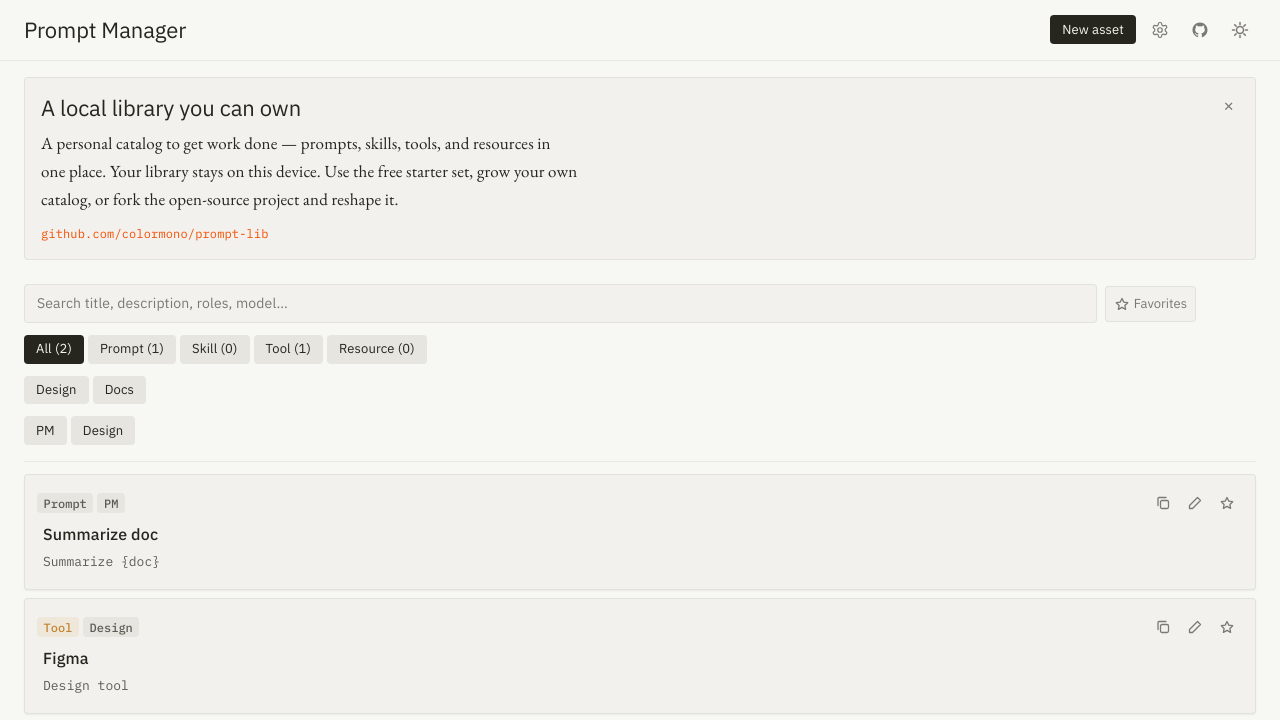
it: App › shows a clear-filters empty state when no assets match
This screenshot has width=1280, height=720.
Type "nonexistent" into the search field labelled "Search".
click(560, 304); type("nonexistent")  # box top-left (24, 284), bottom-right (1097, 323)
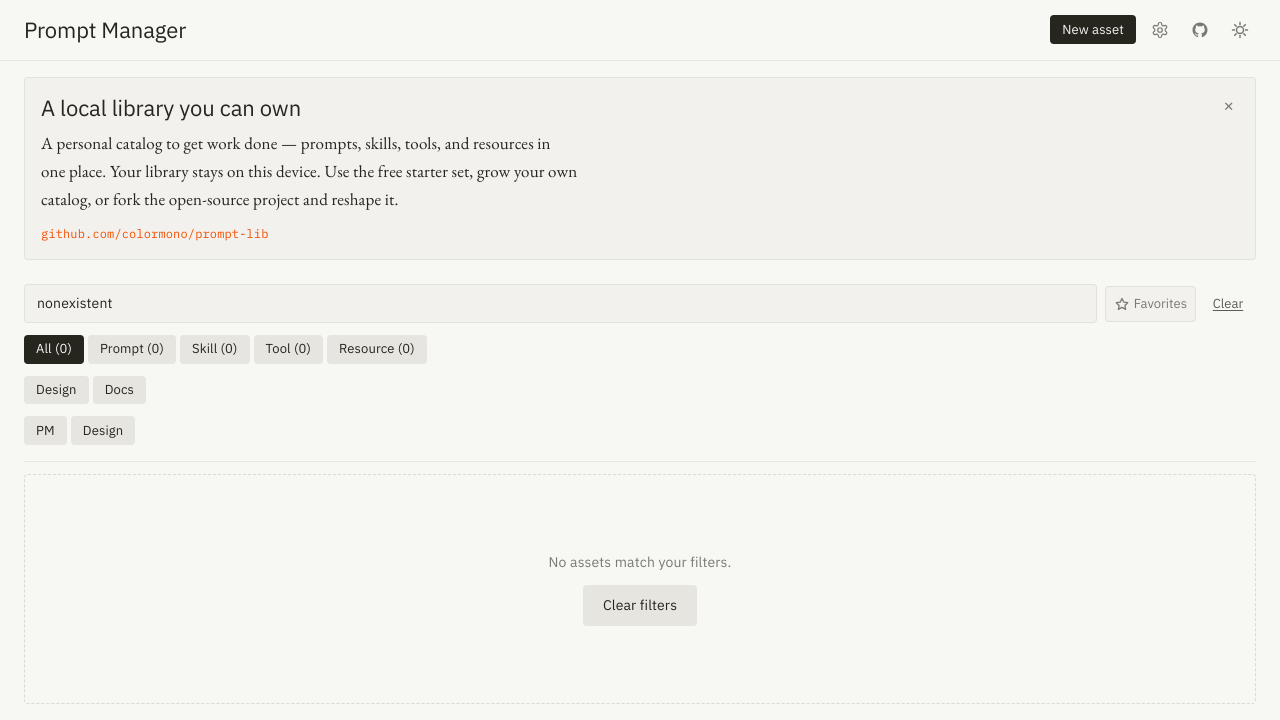
Expected: the text "No assets match your filters." is shown, top-left (549, 552), bottom-right (732, 573)
Click the button "Clear filters".
click(640, 606)  # box top-left (583, 585), bottom-right (697, 626)
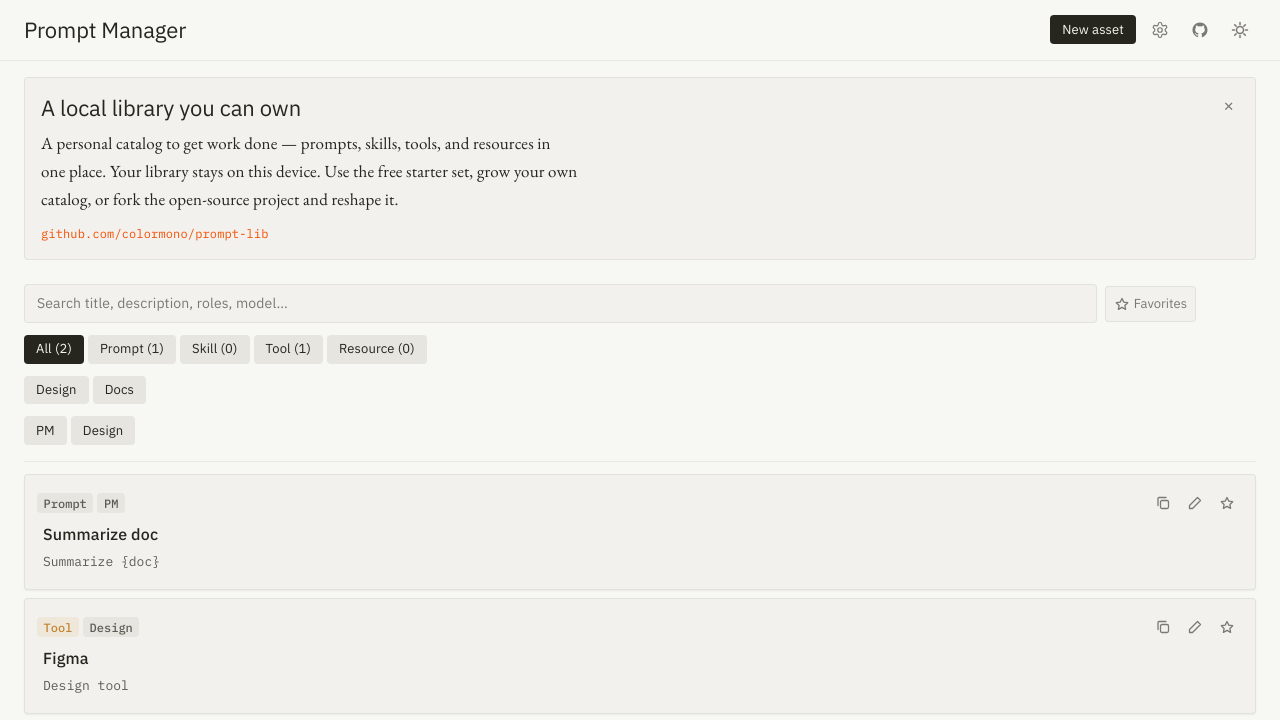
Expected: the heading "Summarize doc" is shown, top-left (43, 524), bottom-right (158, 544)
